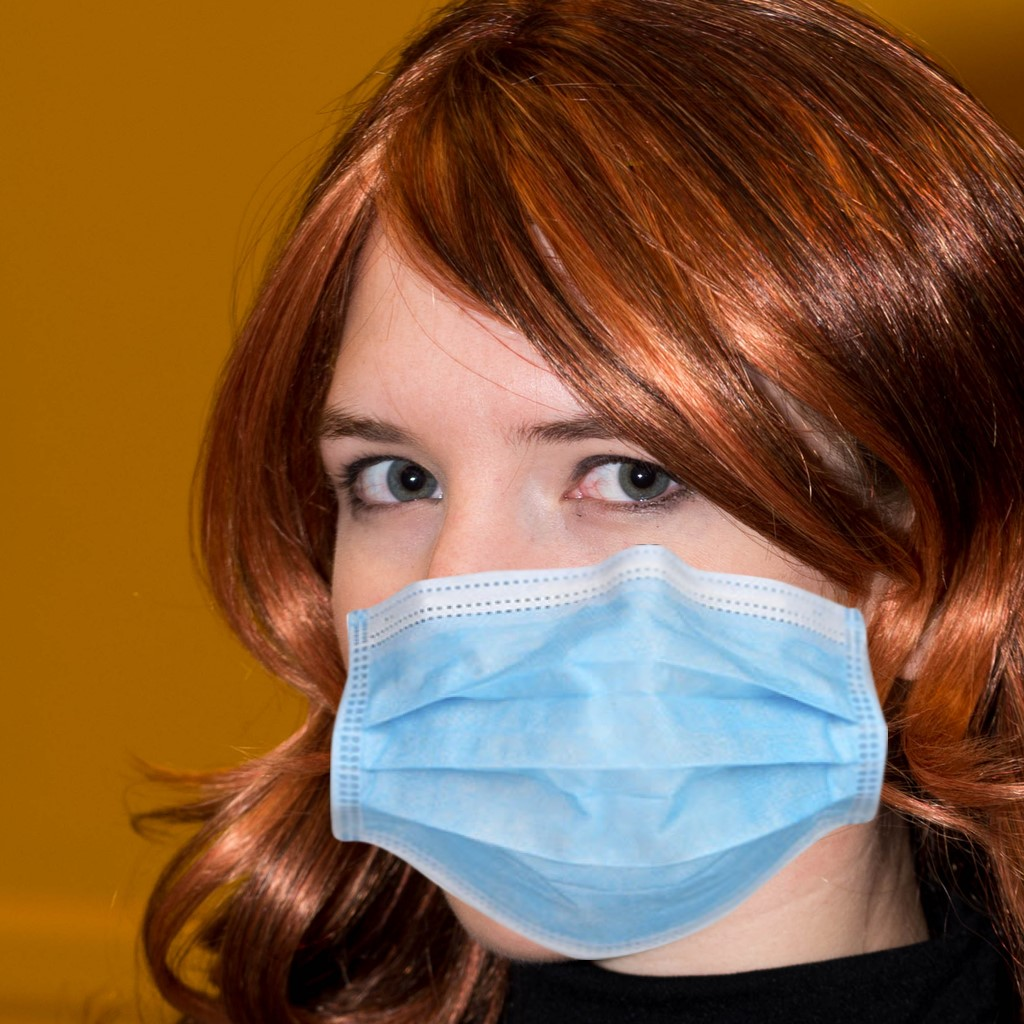con_mascara: (310, 214, 914, 958)
